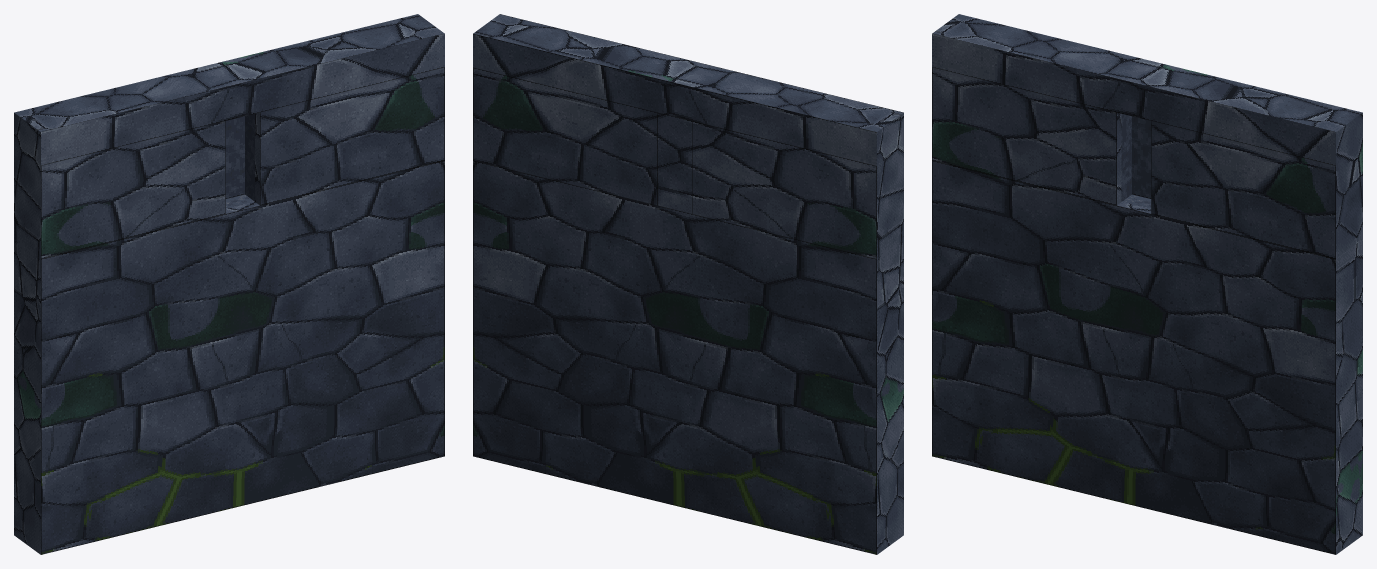
Rendered from SM_Env_WallPendulumRecess_4x4.glb.
3 renders of one model, left to right at view 1: azimuth 30°, elevation 25°; view 2: azimuth 150°, elevation 25°; view 3: azimuth 330°, elevation 25°, orthographic.
Visible parts, largest first — view 1: joint_0, joint_1, joint_2, joint_3, joint_4; view 2: joint_0, joint_1, joint_2, joint_3, joint_4; view 3: joint_0, joint_1, joint_3, joint_2, joint_4.
Boxes of the visible parts, bbox=[...] form: joint_0: bbox=[14, 160, 444, 554]; joint_1: bbox=[14, 14, 444, 165]; joint_2: bbox=[14, 121, 225, 258]; joint_3: bbox=[245, 67, 444, 205]; joint_4: bbox=[225, 116, 244, 198]; joint_0: bbox=[473, 160, 903, 554]; joint_1: bbox=[473, 14, 903, 165]; joint_2: bbox=[692, 121, 903, 258]; joint_3: bbox=[473, 67, 657, 205]; joint_4: bbox=[658, 112, 692, 213]; joint_0: bbox=[932, 160, 1362, 554]; joint_1: bbox=[932, 14, 1362, 165]; joint_3: bbox=[1151, 121, 1362, 258]; joint_2: bbox=[932, 67, 1131, 205]; joint_4: bbox=[1132, 116, 1151, 198].
Size of the model in its own units: 4 by 4 by 0.46.
Materials: 1 (1 with a texture image).
